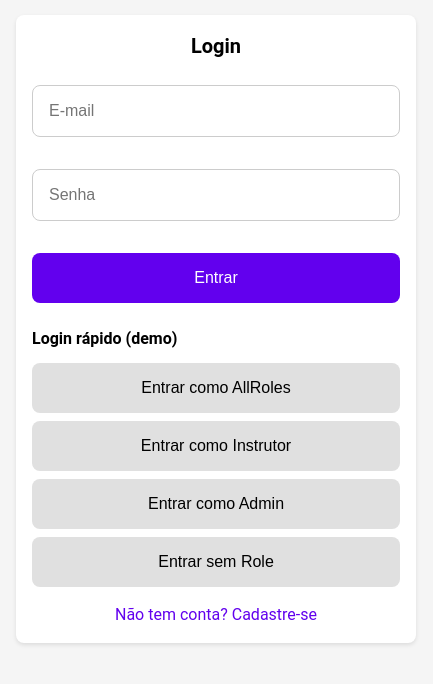
Login Component › validates empty fields
Click the button "Entrar": (216,278) [32,253,400,303]
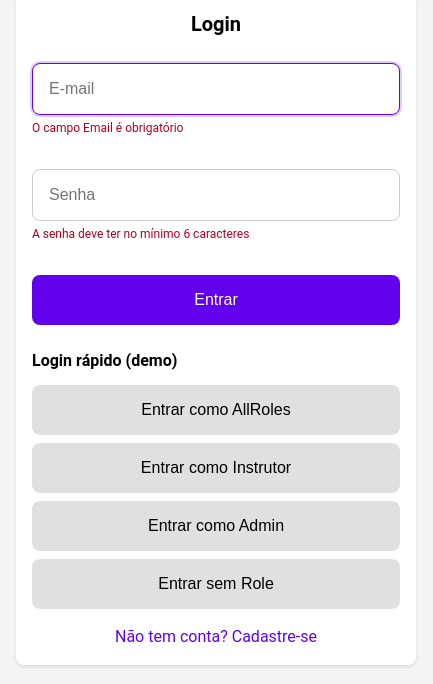
Expected: the text "O campo Email é obrigatório" is shown, [32,121,184,135]
Expected: the text "A senha deve ter no mínimo 6 caracteres" is shown, [32,227,249,241]
